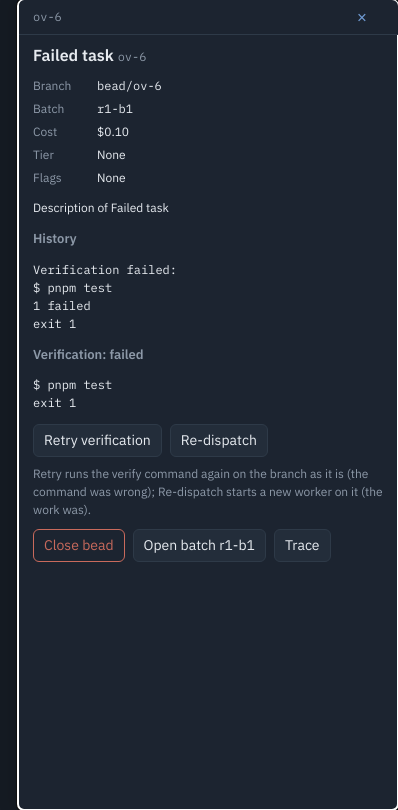
Test: TaskPane › toasts the running action and keeps the pending state on a 409
What coordinates should you click on to do the following:
click the button "Retry verification"
I would click on:
 (97, 440)
Its box is [33,424,162,457].
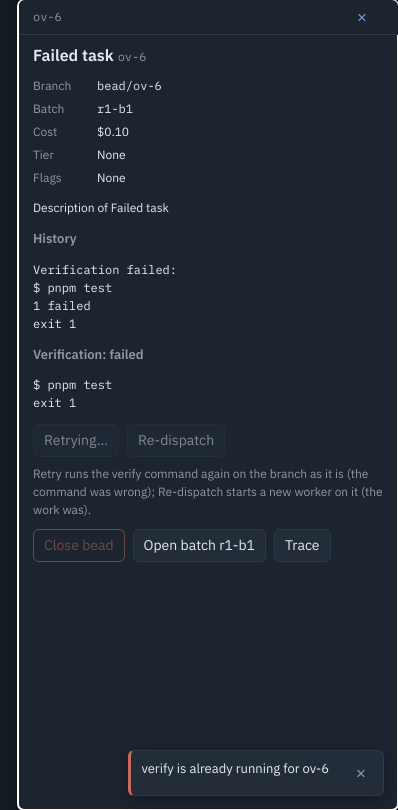
Expected: the message shows "verify is already running for ov-6", [141,760,329,777]
Expected: the button "Retrying…" is shown, [33,424,119,457]
Expected: the button "Re-dispatch" is disabled, [127,424,225,457]
